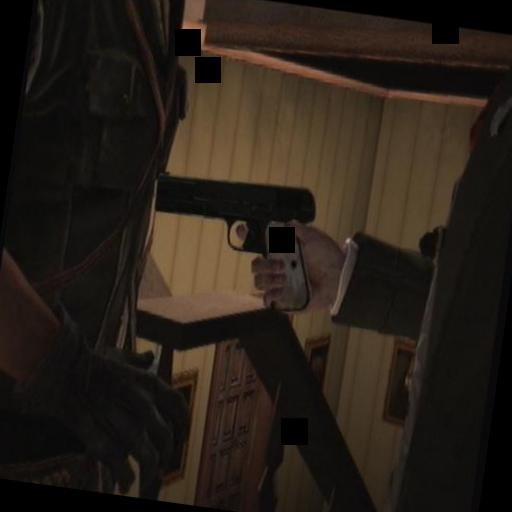Handgun: (141, 162, 331, 314)
